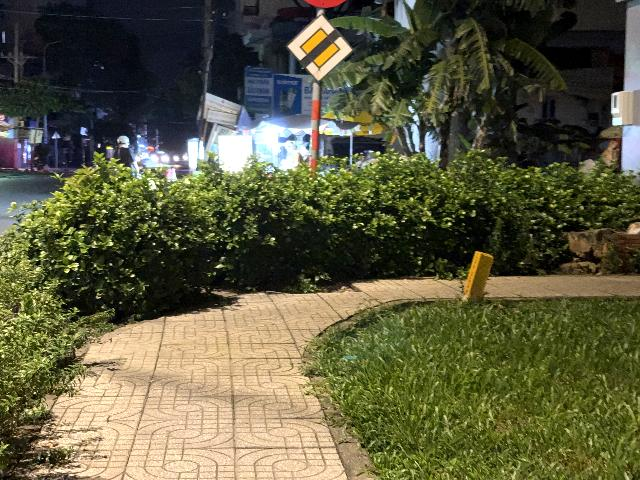het-duong-uu-tien: (285, 14, 356, 84)
